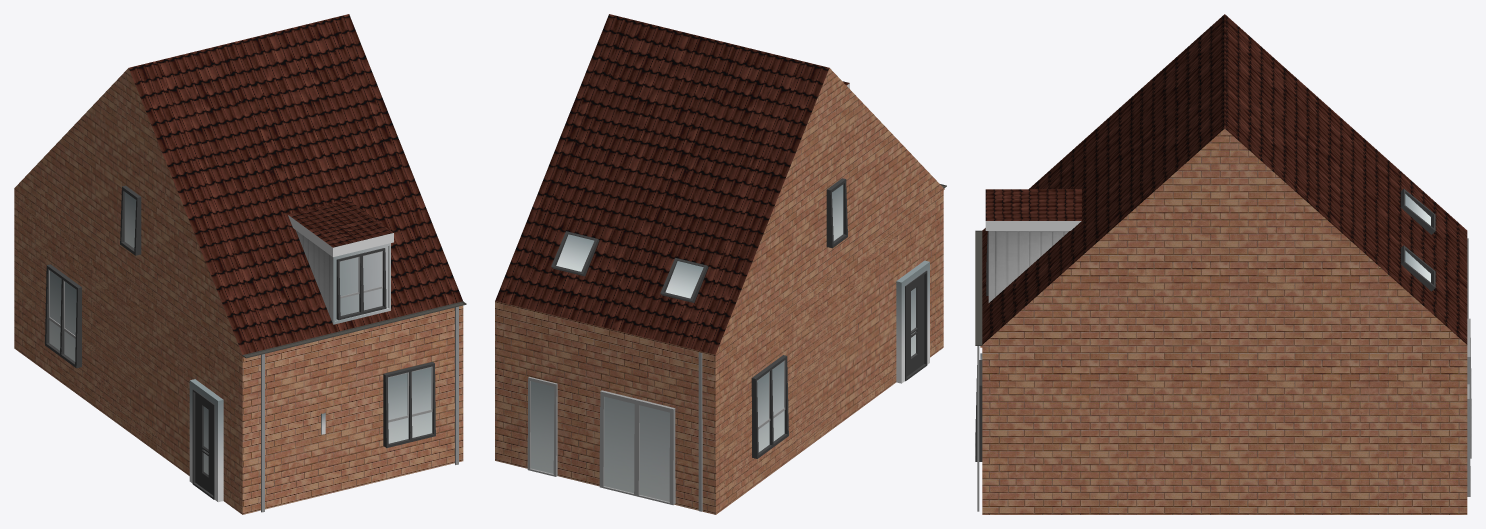
File: Woning 39723 E2.fbx
3 views of the same model, side by side, from view 1: azimuth 30°, elevation 25°; view 2: azimuth 150°, elevation 25°; view 3: azimuth 270°, elevation 25° (orthographic). The views are drawn at different scales.
Parts seen in each view (by area): view 1: Woning_39723_E2; view 2: Woning_39723_E2; view 3: Woning_39723_E2.
Part boxes in pixels (box(x1,y1,x2,y2)): Woning_39723_E2: box(14, 14, 466, 514); Woning_39723_E2: box(495, 14, 946, 514); Woning_39723_E2: box(975, 14, 1471, 514).
Bounding box in the file's own units: 577 × 885 × 1029.
